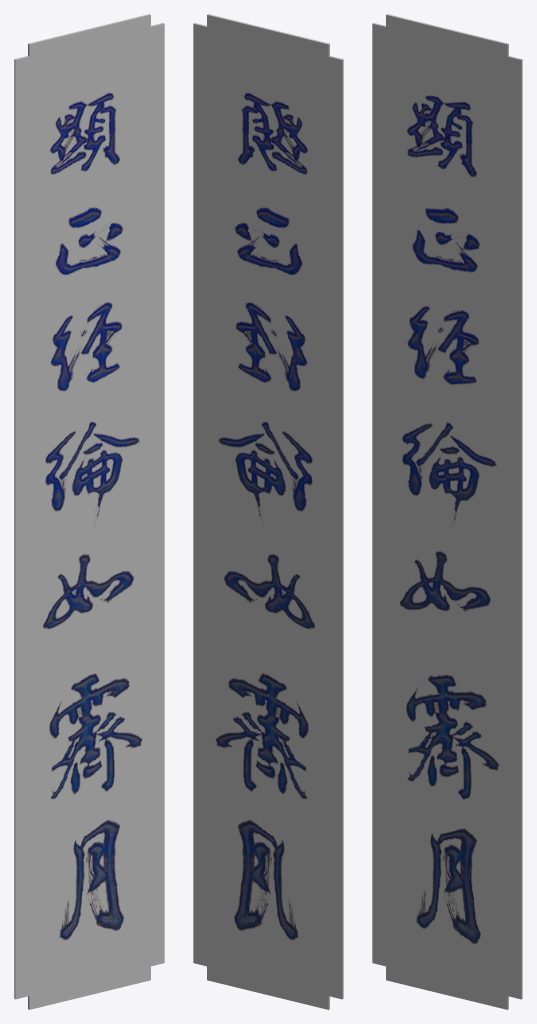
Rendered from SM_Unhyun_Iro_Joo_J001.fbx.
3 renders of one model, left to right at view 1: azimuth 30°, elevation 25°; view 2: azimuth 150°, elevation 25°; view 3: azimuth 330°, elevation 25°, orthographic.
Parts seen in each view (by area): view 1: SM_Unhyun_Iro_Joo_J001; view 2: SM_Unhyun_Iro_Joo_J001; view 3: SM_Unhyun_Iro_Joo_J001.
Part boxes in pixels (x1,y1,x2,y2): SM_Unhyun_Iro_Joo_J001: [14, 14, 164, 1009]; SM_Unhyun_Iro_Joo_J001: [193, 14, 343, 1009]; SM_Unhyun_Iro_Joo_J001: [372, 14, 522, 1009].
Bounding box in the file's own units: 14.56 × 90.01 × 0.2.
